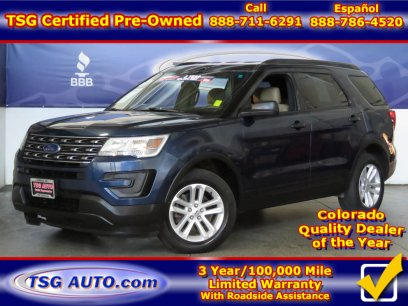Ford Explorer: (12, 55, 396, 254)
